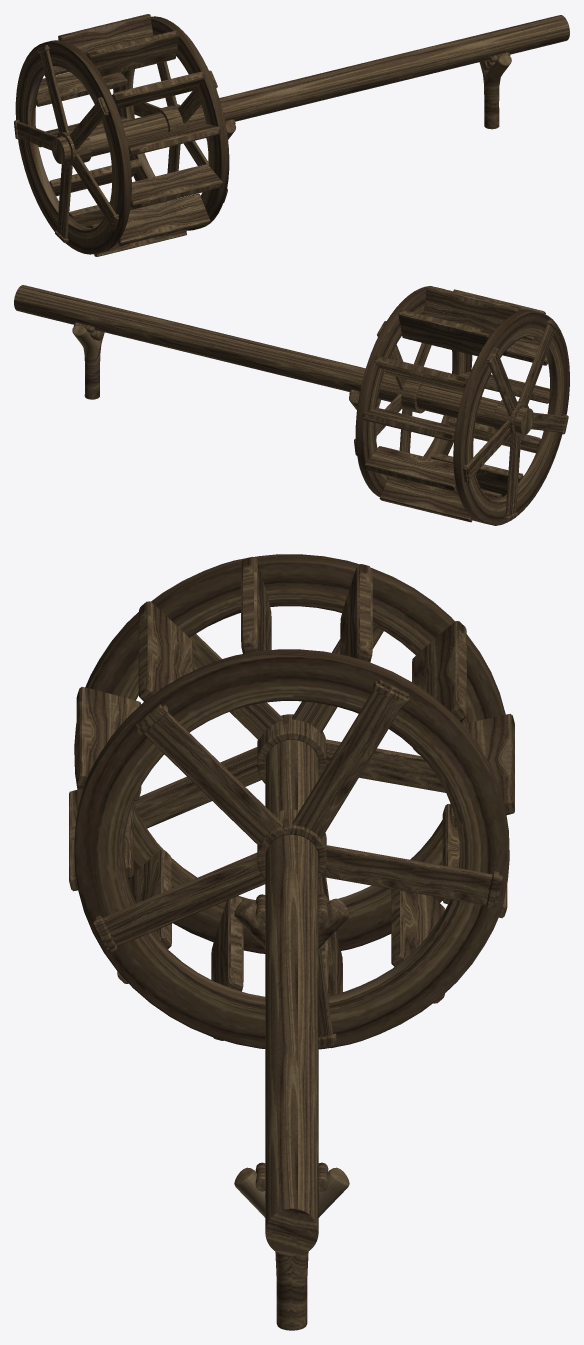
The model's file is Water wheel.fbx.
3 renders of one model, top to bottom at view 1: azimuth 30°, elevation 25°; view 2: azimuth 150°, elevation 25°; view 3: azimuth 270°, elevation 25°, orthographic. The views are drawn at different scales.
Visible parts, largest first — view 1: plate, big circle, Cylinder, wood1, wood2, wood5, wood3, Cylinder.002, small circle, wood4; view 2: plate, big circle, Cylinder, wood3, wood4, wood1, Cylinder.002, small circle, wood5, wood2; view 3: big circle, plate, Cylinder, wood2, wood4, wood1, wood5, Cylinder.002, small circle, Cylinder.001, wood3.
Part boxes in pixels (x1,y1,x2,y2): plate: [36, 14, 222, 256]; big circle: [15, 16, 229, 254]; Cylinder: [51, 15, 569, 163]; wood1: [69, 70, 217, 149]; wood2: [72, 127, 227, 229]; wood5: [37, 45, 177, 132]; wood3: [55, 144, 180, 242]; Cylinder.002: [479, 55, 511, 129]; small circle: [56, 104, 189, 166]; wood4: [14, 102, 160, 150]; plate: [362, 286, 549, 525]; big circle: [355, 286, 569, 525]; Cylinder: [14, 285, 533, 434]; wood3: [399, 409, 521, 521]; wood4: [354, 394, 511, 482]; wood1: [414, 319, 558, 404]; Cylinder.002: [72, 325, 104, 399]; small circle: [395, 379, 528, 437]; wood5: [377, 321, 517, 416]; wood2: [531, 412, 568, 434]; big circle: [74, 554, 509, 1049]; plate: [69, 556, 514, 1048]; Cylinder: [265, 739, 318, 1256]; wood2: [93, 747, 265, 951]; wood4: [321, 739, 502, 909]; wood1: [135, 634, 283, 845]; wood5: [292, 625, 409, 838]; Cylinder.002: [234, 1167, 349, 1330]; small circle: [257, 714, 326, 878]; Cylinder.001: [234, 898, 349, 948]; wood3: [318, 876, 336, 1046].
Bounding box in the file's own units: 6945 × 2655 × 2655.
